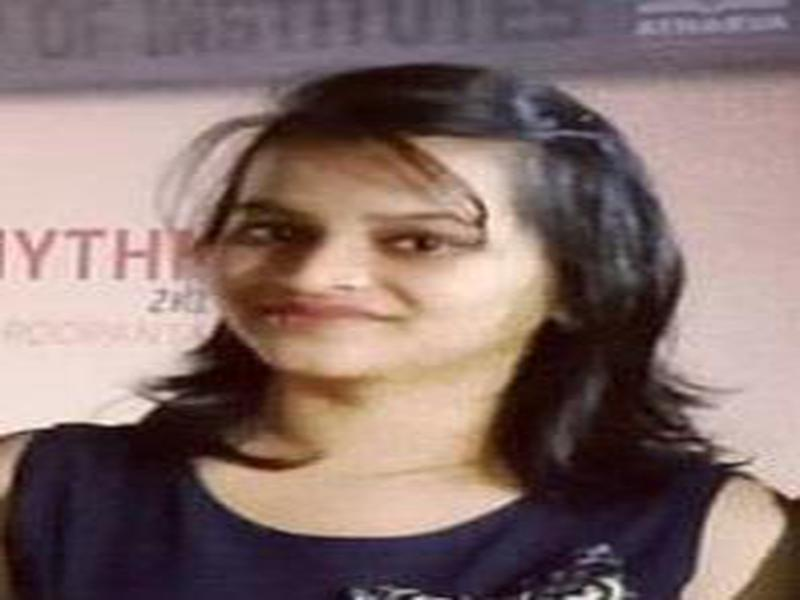without_mask: (204, 153, 536, 385)
